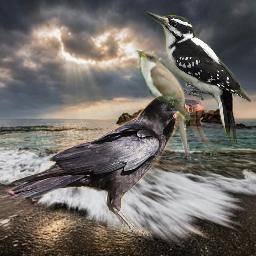Crow: (4, 89, 223, 236)
Cuckoo: (132, 47, 193, 162)
Woodpecker: (145, 8, 251, 146)
